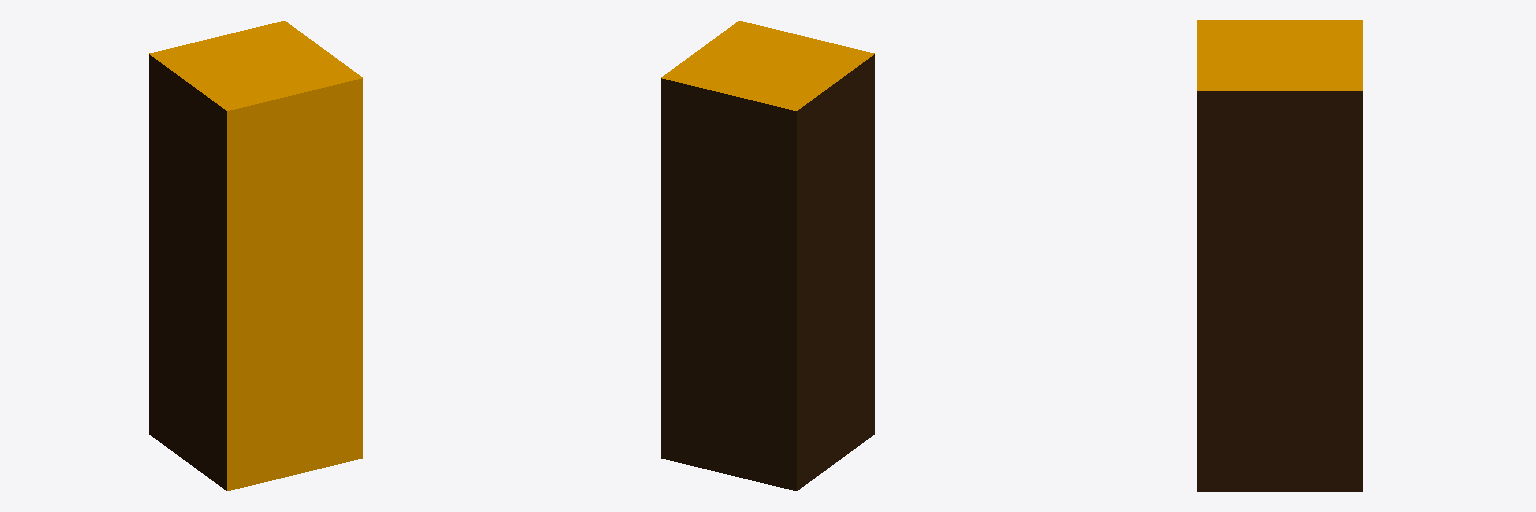
The robot description file, URDF, robot "queenB":
<?xml version='1.0' encoding='UTF-8'?>

<robot name="queenB">

    <link name="base">
        <visual>
            <origin xyz="0 0 0" rpy="0 0 0" />
            <geometry>
                <mesh filename="meshes/queenB.dae" scale="1.0 1.0 1.0"/>
            </geometry>
        </visual>
        <collision>
            <origin xyz="0 0 0" rpy="0 0 0" />
            <geometry>
                <box size="0.03 0.03 0.08" />
            </geometry>
        </collision>
    </link>

</robot>

--- Render facts (derived) ---
3 views of the same robot in one strip: view 1: azimuth 30°, elevation 25°; view 2: azimuth 150°, elevation 25°; view 3: azimuth 270°, elevation 25° (orthographic).
Robot: queenB — 1 links, 0 joints (none); root link base; default pose: every joint at zero.
Links seen in each view (by area): view 1: base; view 2: base; view 3: base.
Boxes of the visible links, x1,y1,x2,y2 form: base: [149, 21, 362, 490]; base: [661, 21, 874, 490]; base: [1197, 20, 1362, 491].
Bounding box of the posed robot: 0.03 × 0.03 × 0.08 m (x, y, z).
1 mesh visuals loaded from 1 distinct referenced files (1 Collada DAE).
